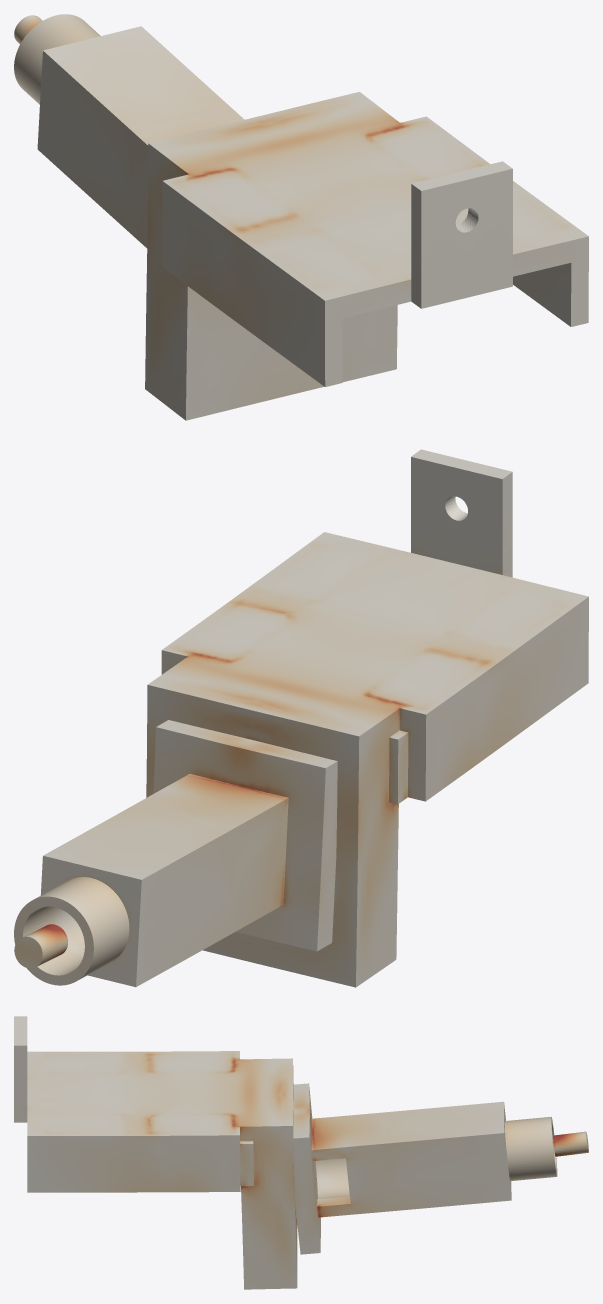
The model's file is z_both_Fy_vm.glb.
3 views of the same model, one above another, from view 1: azimuth 30°, elevation 25°; view 2: azimuth 150°, elevation 25°; view 3: azimuth 270°, elevation 25° (orthographic). The views are drawn at different scales.
Parts seen in each view (by area): view 1: geometry_0; view 2: geometry_0; view 3: geometry_0.
Boxes of the visible parts, x1,y1,x2,y2 form: geometry_0: [14, 14, 588, 420]; geometry_0: [14, 449, 588, 987]; geometry_0: [14, 1016, 588, 1289].
Bounding box in the file's own units: 150 × 187 × 432.
